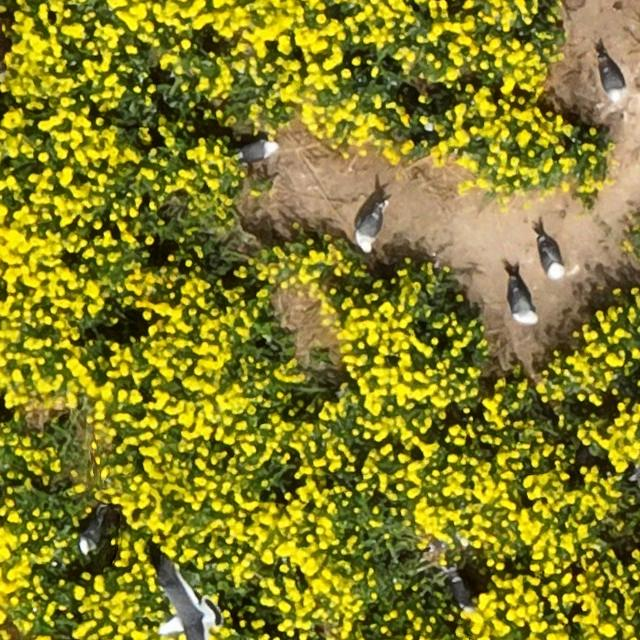F: (157, 572, 225, 637)
umineko: (237, 137, 283, 163), (357, 207, 382, 248), (77, 514, 102, 554), (510, 284, 535, 322), (602, 63, 625, 98), (448, 572, 468, 610), (541, 241, 561, 276)
